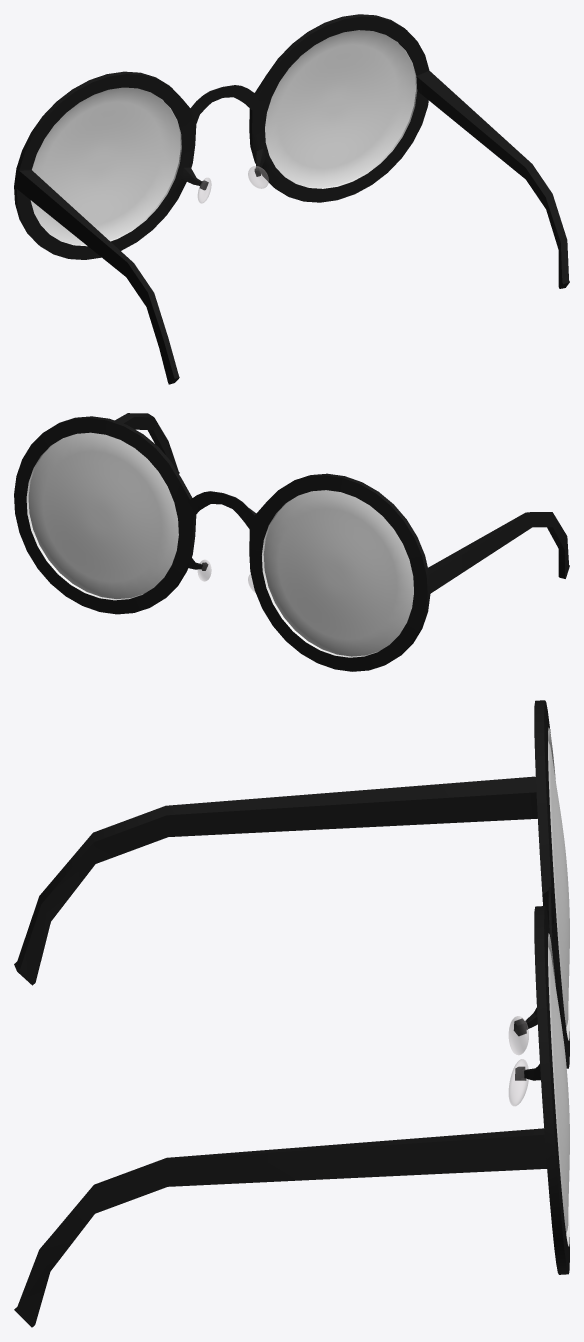
3 views of the same model, one above another, from view 1: azimuth 30°, elevation 25°; view 2: azimuth 150°, elevation 25°; view 3: azimuth 270°, elevation 25° (orthographic). The views are drawn at different scales.
Visible parts, largest first — view 1: Circle.001; view 2: Circle.001; view 3: Circle.001.
Boxes of the visible parts, x1,y1,x2,y2 form: Circle.001: (14, 14, 569, 384); Circle.001: (14, 413, 569, 671); Circle.001: (14, 700, 569, 1327).
Size of the model in its own units: 3.57 by 1.54 by 2.32.
Materials: 3 (1 with a texture image).
